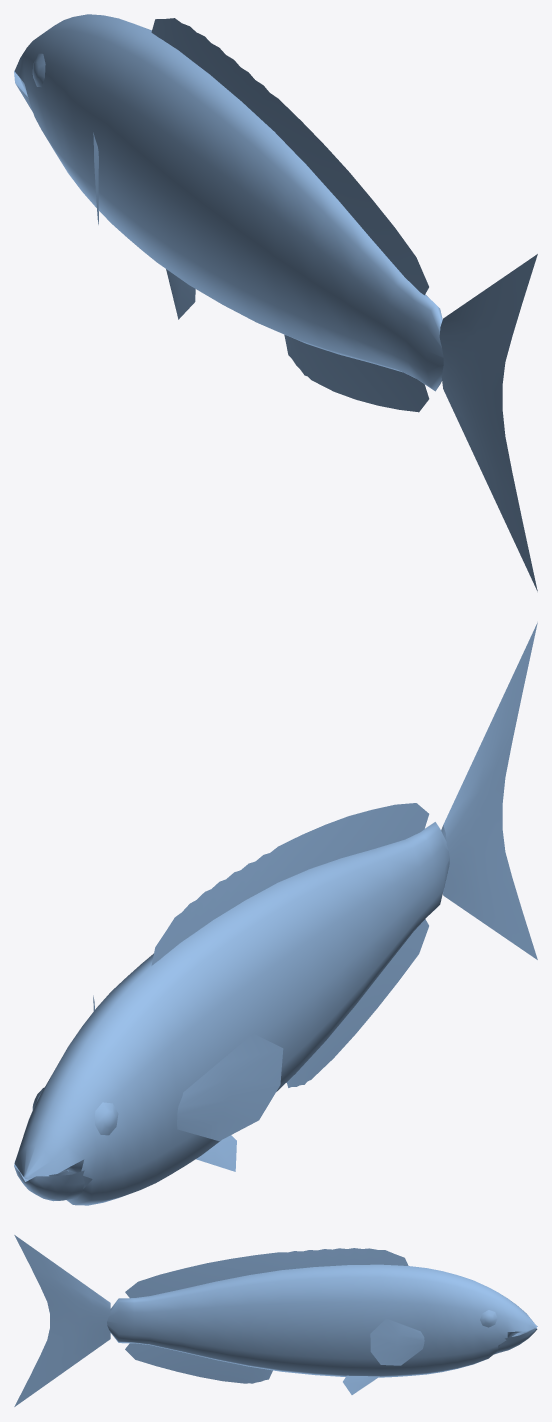
File: wrasse_moon_lo.glb
The picture shows the model from 3 angles, top to bottom: view 1: azimuth 30°, elevation 25°; view 2: azimuth 150°, elevation 25°; view 3: azimuth 270°, elevation 25°; orthographic projection. The views are drawn at different scales.
Parts seen in each view (by area): view 1: wrasse_moon_lo; view 2: wrasse_moon_lo; view 3: wrasse_moon_lo.
Part boxes in pixels (bbox=[...]): wrasse_moon_lo: bbox=[14, 14, 537, 591]; wrasse_moon_lo: bbox=[14, 622, 537, 1205]; wrasse_moon_lo: bbox=[14, 1235, 537, 1406].
Size of the model in its own units: 0.0532 by 0.0913 by 0.2505.
